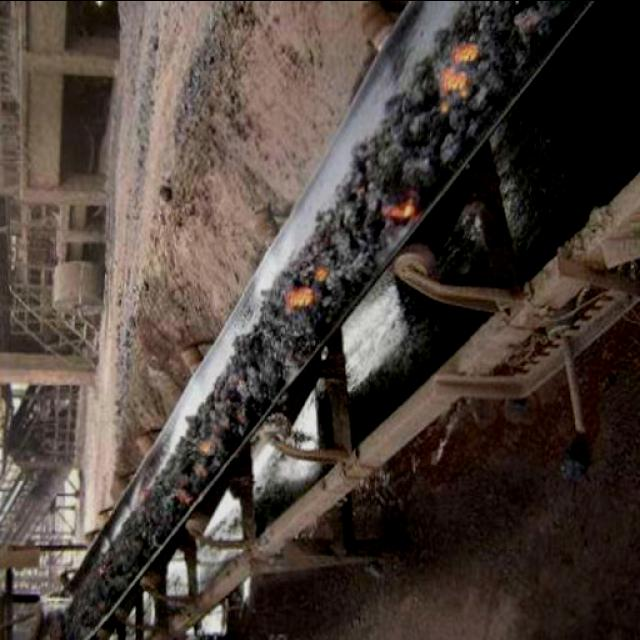conveyor: (60, 0, 611, 640)
